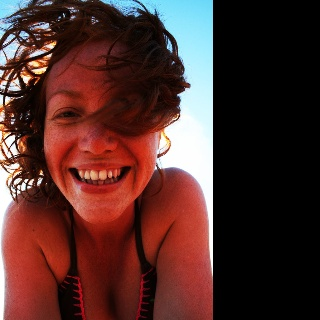without_mask: (43, 41, 157, 223)
